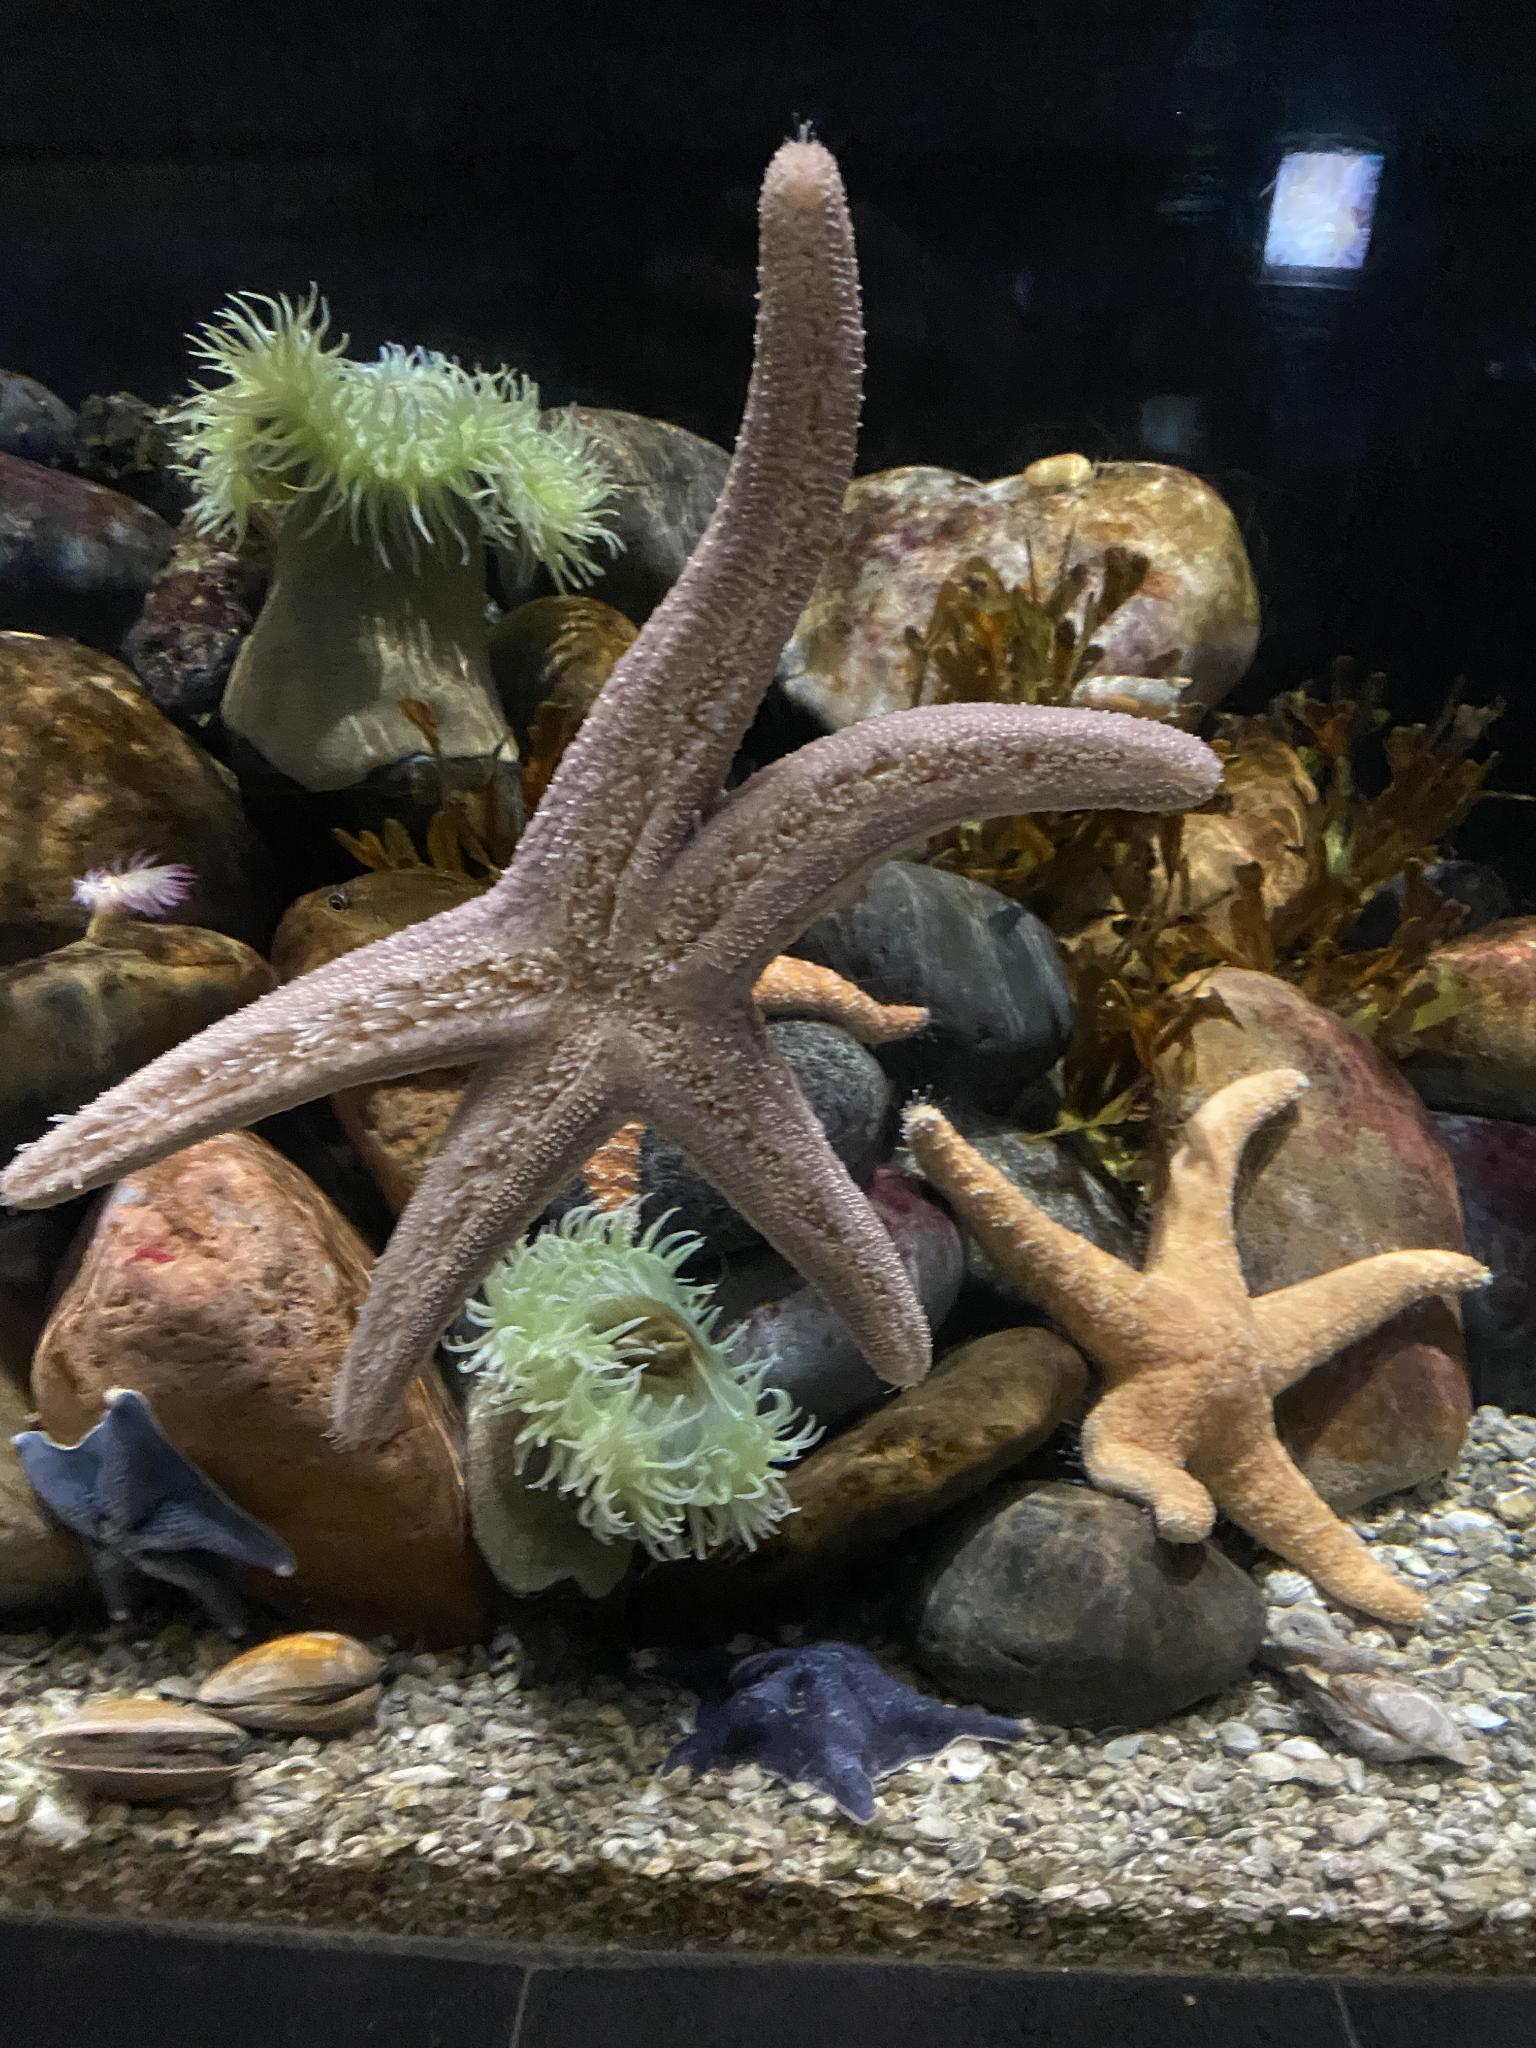starfish: (3, 139, 1226, 1455), (899, 1064, 1492, 1634)
